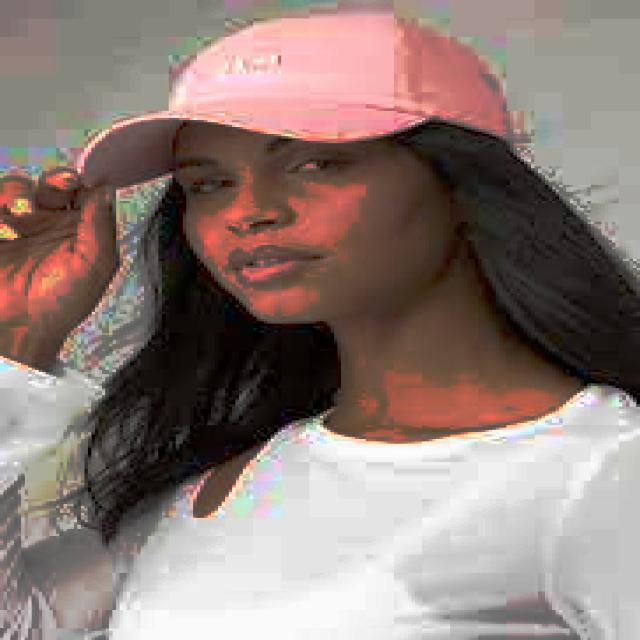TOPI: (63, 9, 510, 192)
